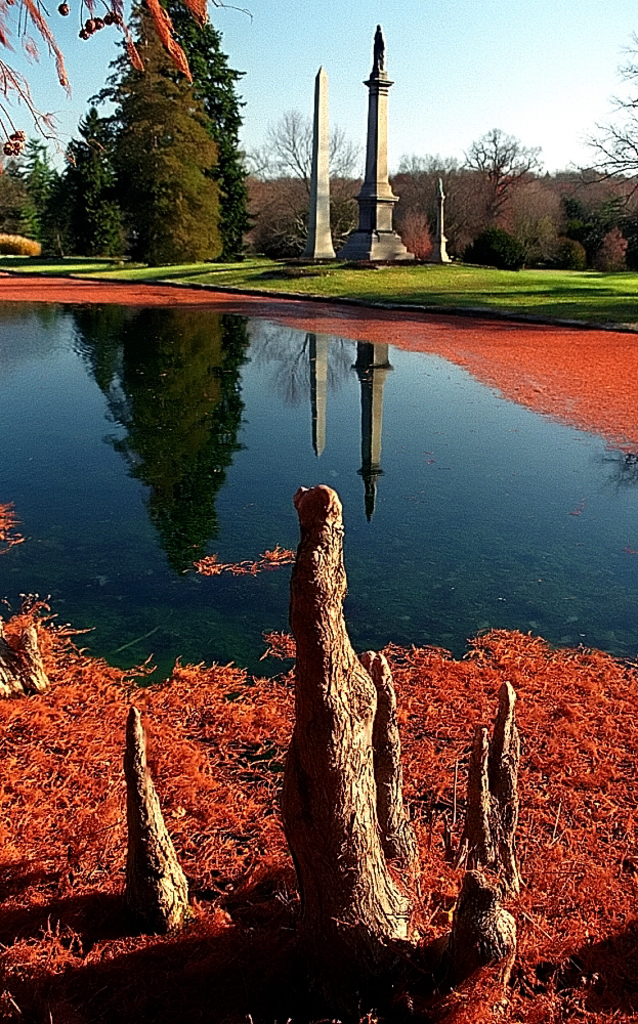Tree: (27, 0, 254, 265), (101, 30, 226, 268), (563, 11, 636, 244), (43, 106, 137, 261), (261, 106, 355, 230), (456, 120, 545, 229), (0, 149, 48, 256)
